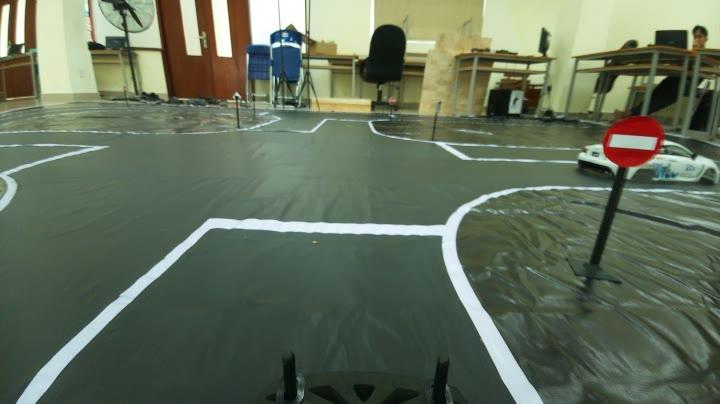no_entry: (597, 116, 666, 170)
